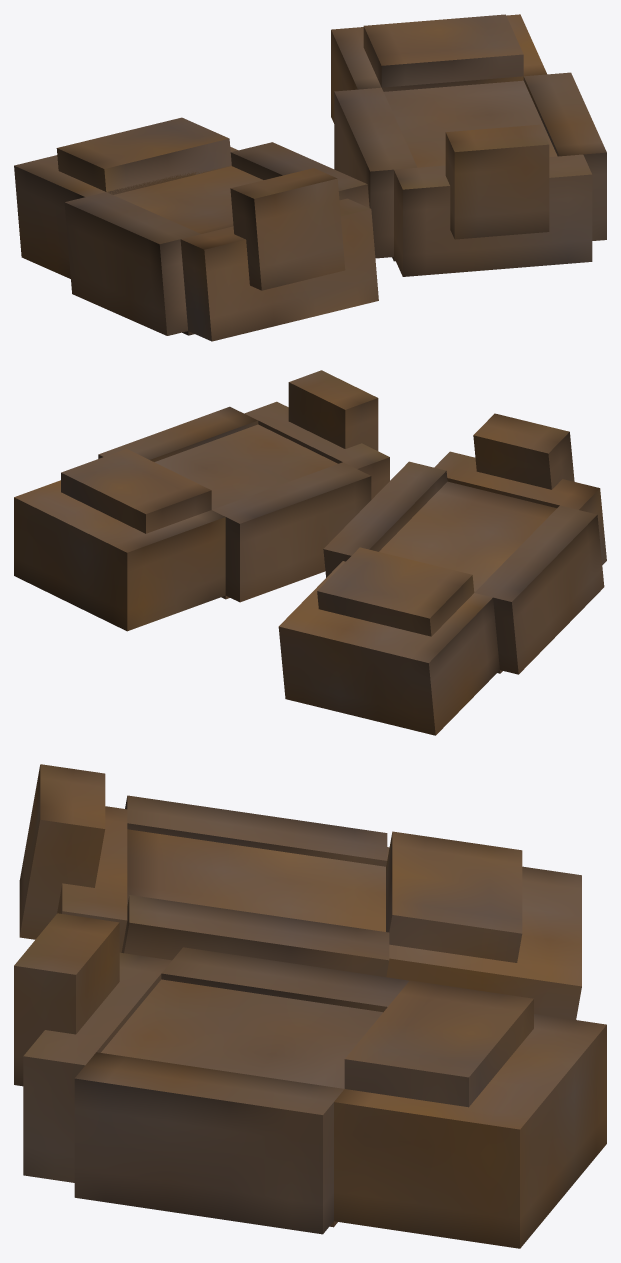
File: t45_boots_broken.obj
The picture shows the model from 3 angles, top to bottom: view 1: azimuth 30°, elevation 25°; view 2: azimuth 150°, elevation 25°; view 3: azimuth 270°, elevation 25°; orthographic projection. The views are drawn at different scales.
Parts seen in each view (by area): view 1: Boots; view 2: Boots; view 3: Boots.
Part boxes in pixels (<box>): Boots: <box>14,14,606,341</box>; Boots: <box>14,370,606,735</box>; Boots: <box>14,764,606,1248</box>.
Bounding box in the file's own units: 0.7556 × 0.269 × 0.5634.
